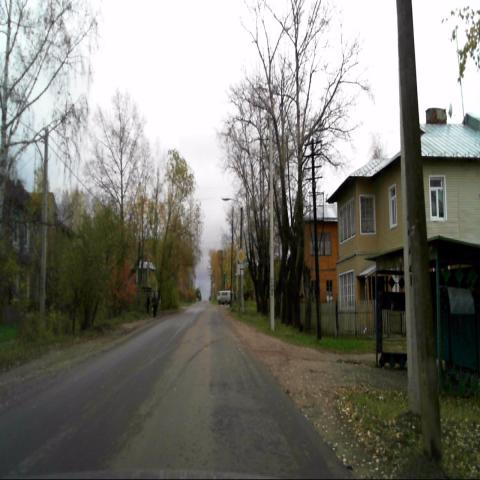2_1: (236, 247, 245, 263)
8_13: (236, 263, 244, 276)
